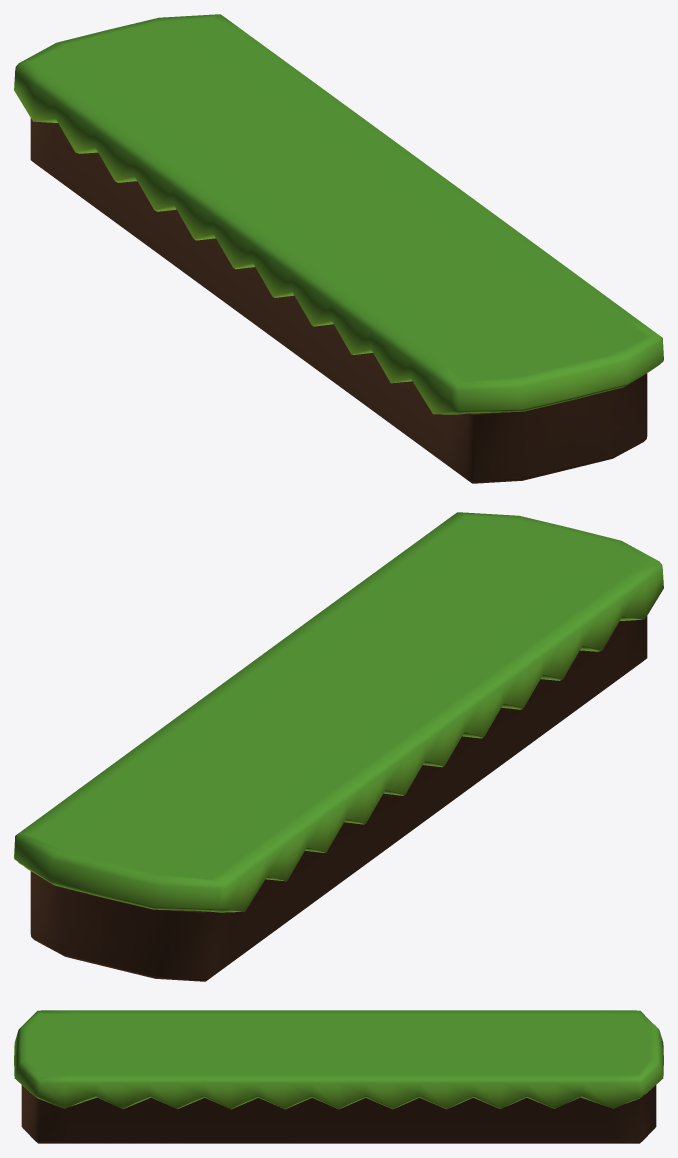
The model's file is LongCube.fbx.
3 views of the same model, one above another, from view 1: azimuth 30°, elevation 25°; view 2: azimuth 150°, elevation 25°; view 3: azimuth 270°, elevation 25° (orthographic). The views are drawn at different scales.
Parts seen in each view (by area): view 1: LongCube; view 2: LongCube; view 3: LongCube.
Part boxes in pixels (x1=…): LongCube: x1=14, y1=14, x2=663, y2=483; LongCube: x1=14, y1=512, x2=663, y2=981; LongCube: x1=14, y1=1010, x2=663, y2=1143.
Bounding box in the file's own units: 235 × 109 × 911.
